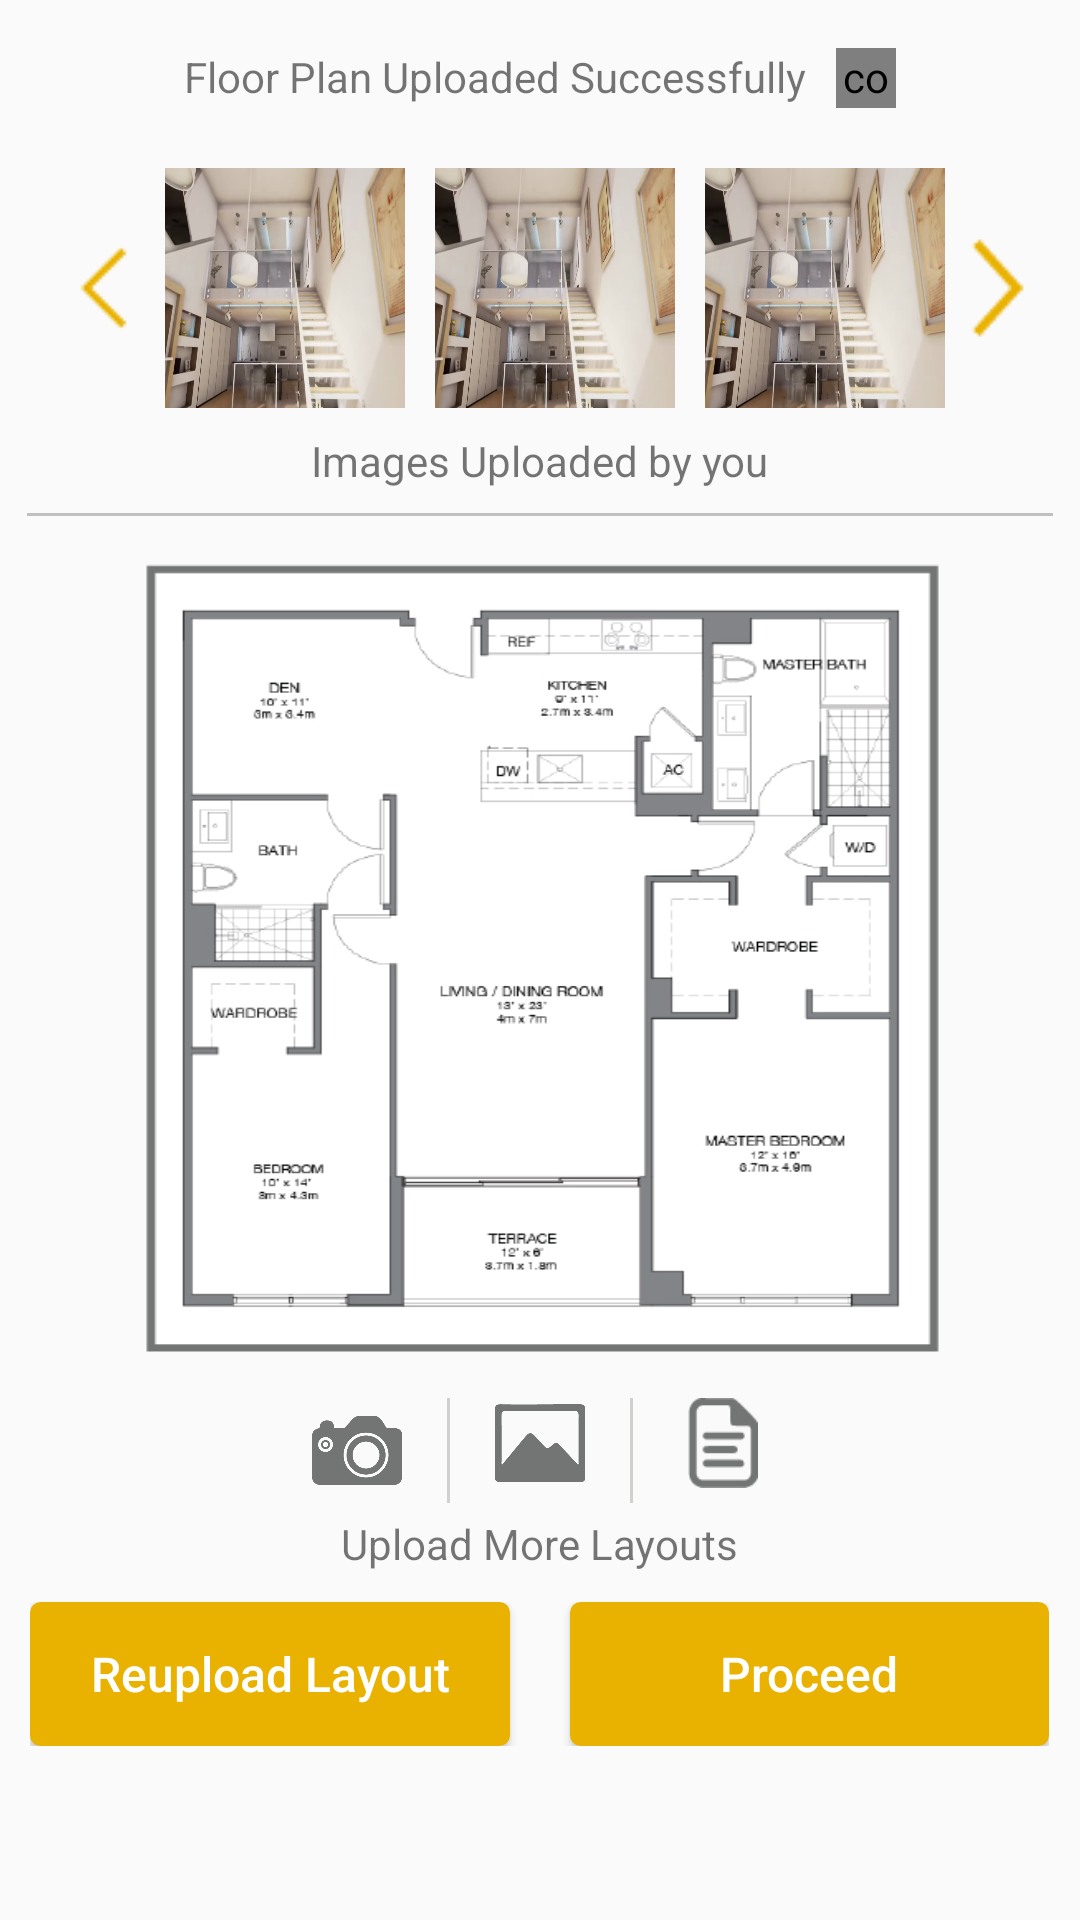

Icons on this 1080x1920 Android screen, each with the point to tap as (x,y):
back: (103,288)
camera: (357,1450)
file: (723,1443)
gallery: (540,1443)
next: (998,288)
